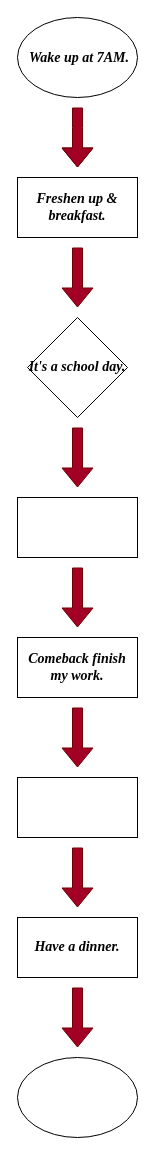
Some shapes in this 155 by 1155 pixel diagram are drawn without their labels. Each missing label, with the box of its shape:
Attend classes.: (16, 496, 138, 558)
Go to sleep.: (16, 1056, 138, 1138)
Have lunch,Go out with friends.: (16, 776, 138, 838)
